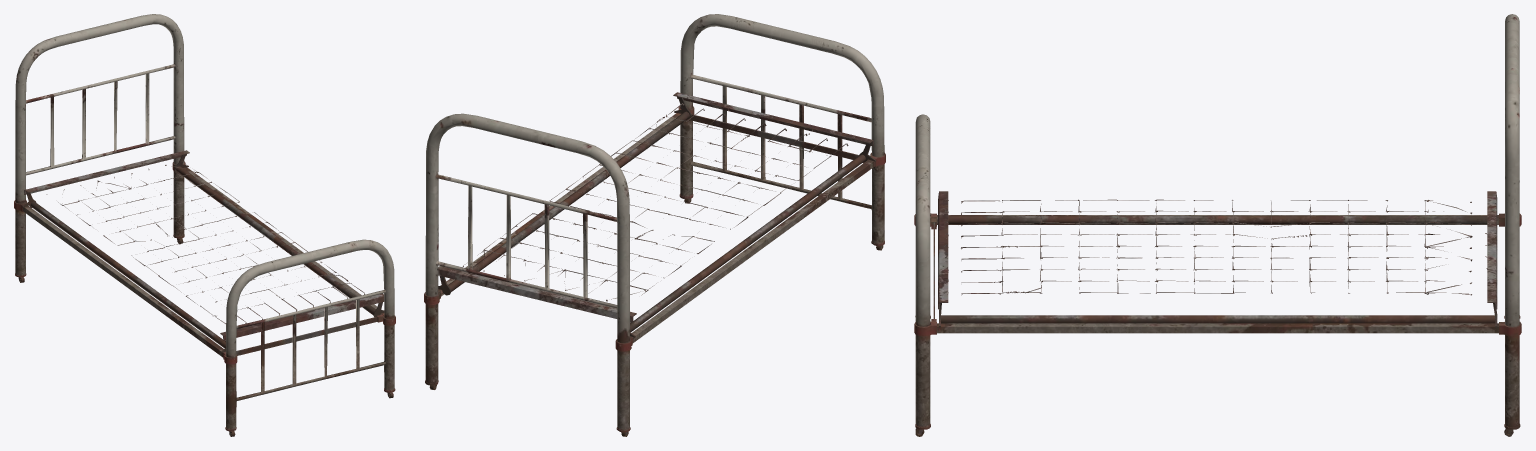
File: old_bed_frame.glb
The picture shows the model from 3 angles, left to right: view 1: azimuth 30°, elevation 25°; view 2: azimuth 150°, elevation 25°; view 3: azimuth 270°, elevation 25°; orthographic projection. The views are drawn at different scales.
Visible parts, largest first — view 1: old_bed_frame; view 2: old_bed_frame; view 3: old_bed_frame.
Part boxes in pixels (x1,y1,x2,y2): old_bed_frame: [14, 14, 395, 436]; old_bed_frame: [424, 14, 885, 436]; old_bed_frame: [914, 14, 1521, 436].
Bounding box in the file's own units: 0.9047 × 1.2 × 2.
Materials: 1 (1 with a texture image).
